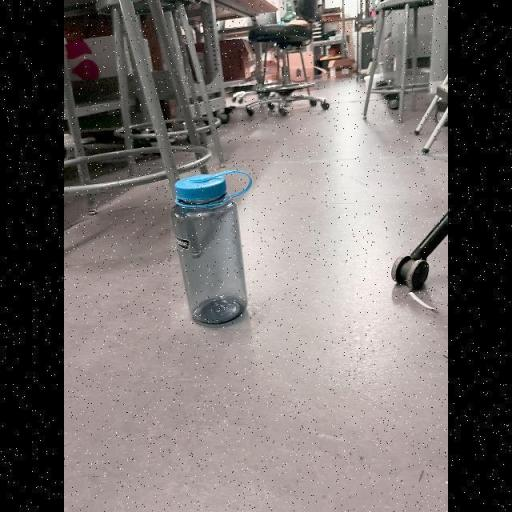bottle: (170, 170, 253, 328)
